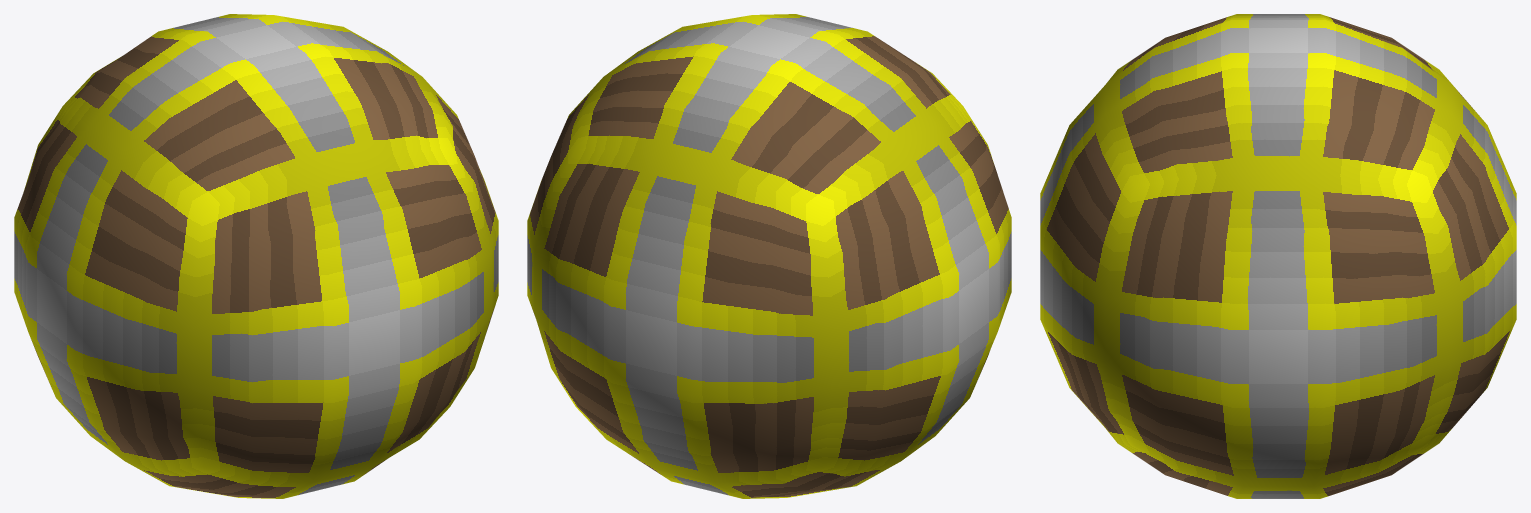
The model's file is BallModel.FBX.
3 renders of one model, left to right at view 1: azimuth 30°, elevation 25°; view 2: azimuth 150°, elevation 25°; view 3: azimuth 270°, elevation 25°, orthographic.
Visible parts, largest first — view 1: Ball; view 2: Ball; view 3: Ball.
Part boxes in pixels (x1,y1,x2,y2): Ball: (14,14,498,498); Ball: (527,14,1011,498); Ball: (1040,14,1516,498).
Bounding box in the file's own units: 96.23 × 96.23 × 96.23.
1 material, 1 textured.
